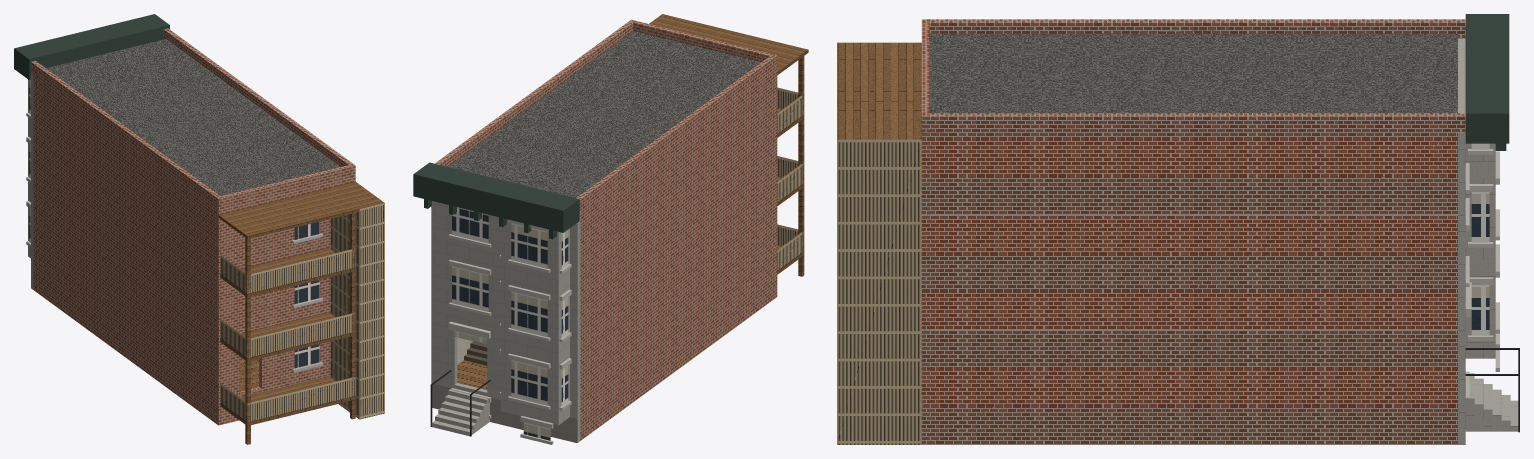
The model's file is three_flat_grey_2.glb.
3 views of the same model, side by side, from view 1: azimuth 30°, elevation 25°; view 2: azimuth 150°, elevation 25°; view 3: azimuth 270°, elevation 25° (orthographic). The views are drawn at different scales.
Visible parts, largest first — view 1: three_flat_grey_2; view 2: three_flat_grey_2; view 3: three_flat_grey_2.
Boxes of the visible parts, x1,y1,x2,y2 form: three_flat_grey_2: [14, 14, 384, 444]; three_flat_grey_2: [413, 14, 808, 444]; three_flat_grey_2: [837, 14, 1519, 444].
Size of the model in its own units: 7.8 by 12.15 by 22.6.
13 materials, 13 textured.
